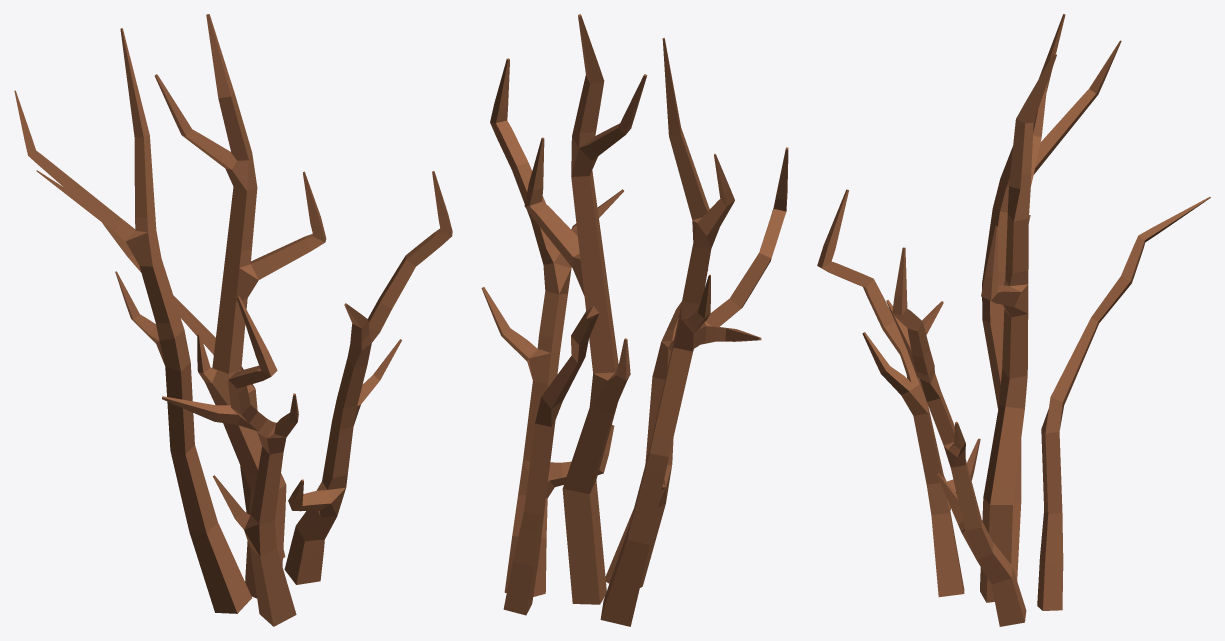
Rendered from bush.gltf.
3 views of the same model, side by side, from view 1: azimuth 30°, elevation 25°; view 2: azimuth 150°, elevation 25°; view 3: azimuth 270°, elevation 25° (orthographic). The views are drawn at different scales.
Parts seen in each view (by area): view 1: bush; view 2: bush; view 3: bush.
Part boxes in pixels (left/top/right/bottom): bush: left=14, top=14, right=452, bottom=626; bush: left=481, top=14, right=788, bottom=626; bush: left=817, top=14, right=1210, bottom=626.
Size of the model in its own units: 3.02 by 5.14 by 3.37.
